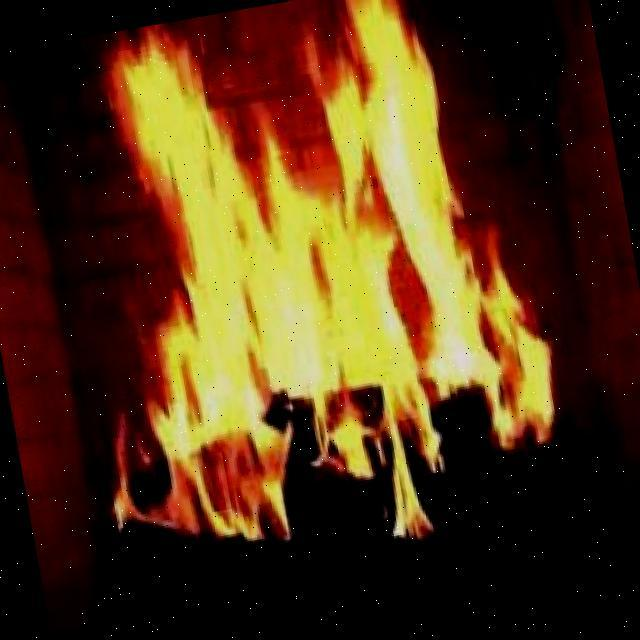Fire: (115, 9, 550, 485)
